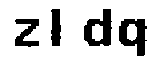d: (76, 6, 113, 50)
l: (48, 4, 67, 54)
q: (115, 10, 147, 58)
z: (11, 17, 42, 48)
